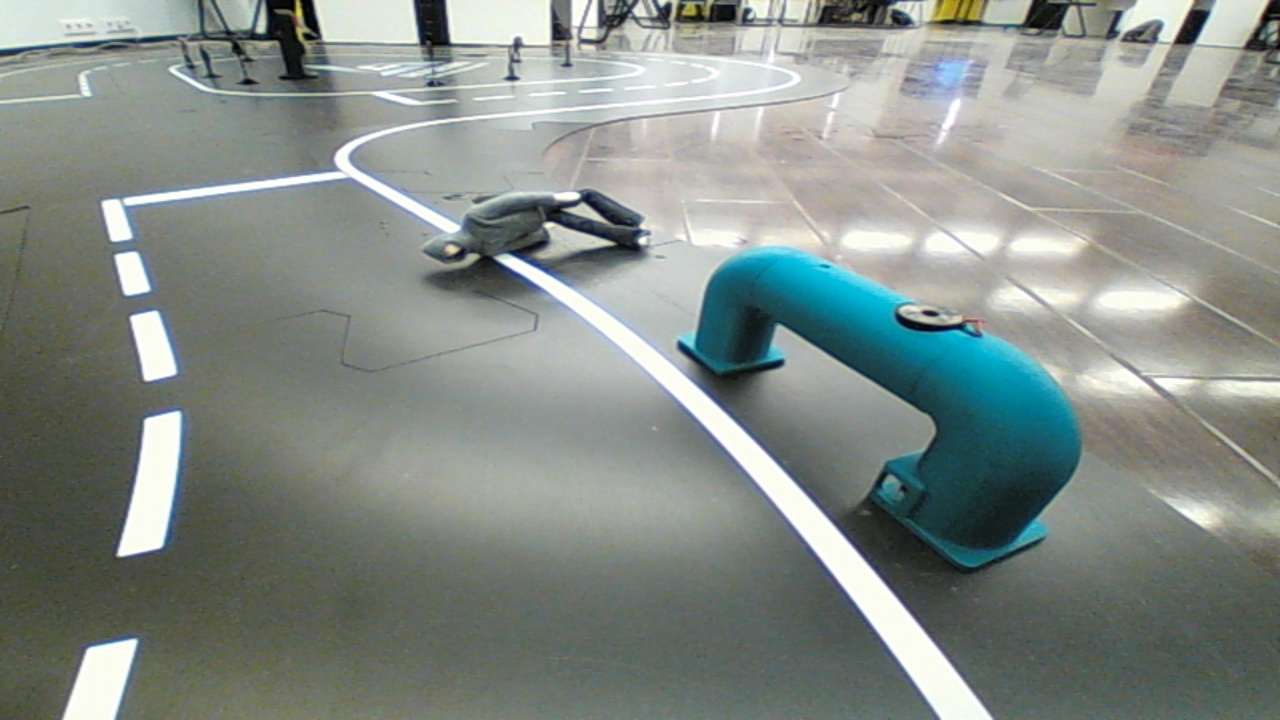Pedestrian crossing: (678, 220, 1095, 584)
Road works: (399, 176, 678, 284)
